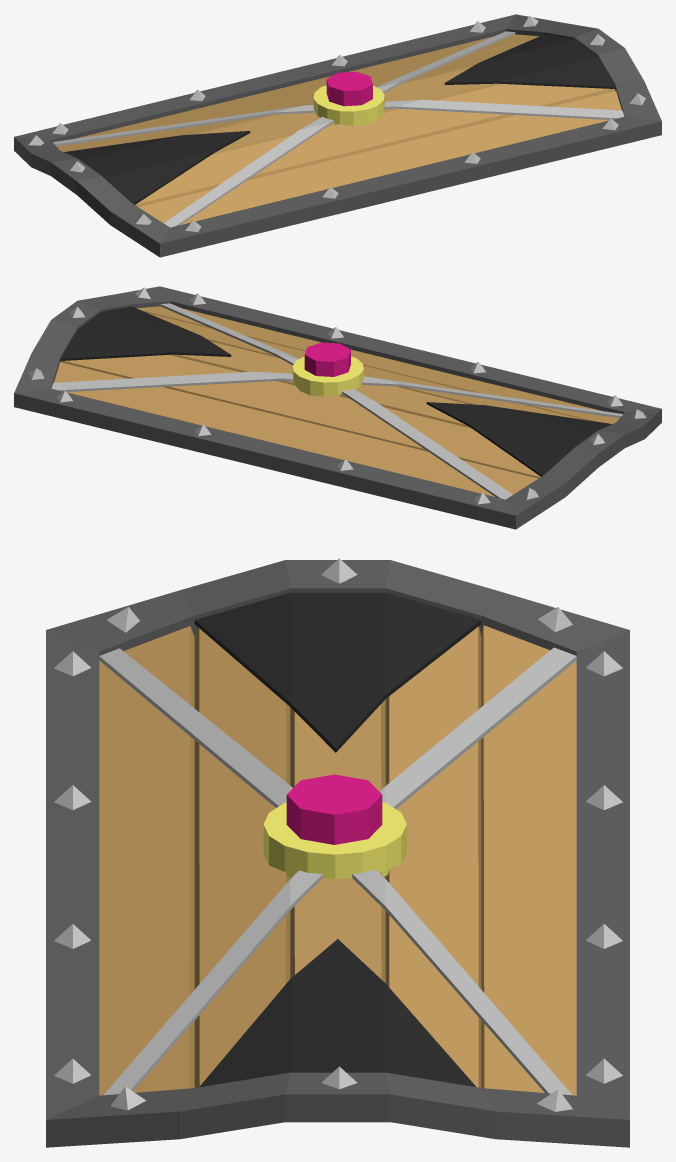
File: Shield_2_d_wood.fbx
3 renders of one model, top to bottom at view 1: azimuth 30°, elevation 25°; view 2: azimuth 150°, elevation 25°; view 3: azimuth 270°, elevation 25°, orthographic. The views are drawn at different scales.
Visible parts, largest first — view 1: Plane.082, Plane.080, Plane.083, Plane.081, Circle.052, Cone.170, Circle.053; view 2: Plane.082, Plane.080, Plane.083, Plane.081, Cone.170, Circle.052, Circle.053; view 3: Plane.082, Plane.080, Plane.083, Plane.081, Cone.170, Circle.052, Circle.053.
Part boxes in pixels (x1,y1,x2,y2): Plane.082: [56, 34, 621, 224]; Plane.080: [14, 14, 661, 257]; Plane.083: [64, 34, 615, 204]; Plane.081: [53, 31, 624, 227]; Circle.052: [313, 85, 384, 126]; Cone.170: [28, 15, 645, 231]; Circle.053: [326, 71, 372, 106]; Plane.082: [54, 306, 619, 496]; Plane.080: [14, 286, 661, 529]; Plane.083: [60, 306, 611, 476]; Plane.081: [51, 303, 622, 499]; Cone.170: [28, 287, 646, 504]; Circle.052: [292, 356, 363, 396]; Circle.053: [304, 342, 350, 376]; Plane.082: [99, 625, 576, 1095]; Plane.080: [46, 560, 629, 1147]; Plane.083: [194, 592, 481, 1087]; Plane.081: [99, 647, 576, 1095]; Cone.170: [54, 558, 622, 1111]; Circle.052: [263, 802, 406, 879]; Circle.053: [286, 774, 382, 844].
Bounding box in the file's own units: 132 × 19.53 × 61.17.
